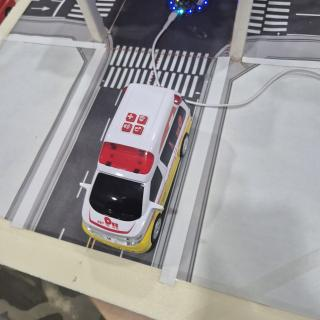Ambulance: (80, 84, 191, 253)
